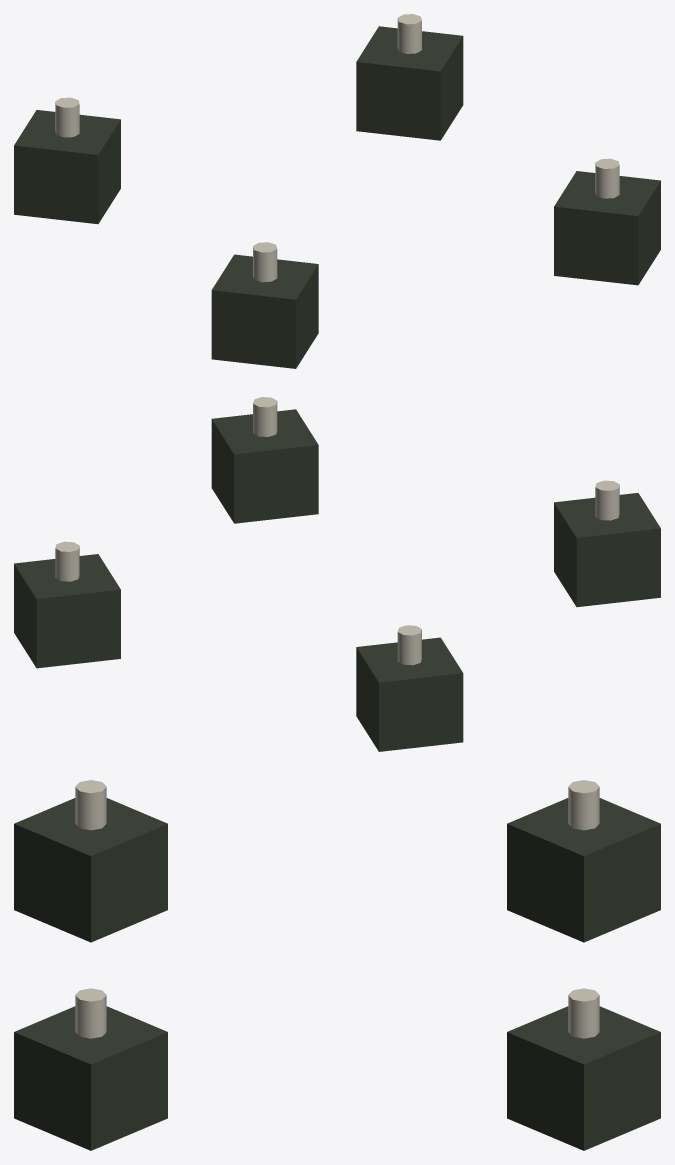
Rendered from s150_sensors.obj.
3 renders of one model, top to bottom at view 1: azimuth 30°, elevation 25°; view 2: azimuth 150°, elevation 25°; view 3: azimuth 270°, elevation 25°, orthographic. The views are drawn at different scales.
Visible parts, largest first — view 1: s150_sensors; view 2: s150_sensors; view 3: s150_sensors.
Part boxes in pixels (x1,y1,x2,y2): s150_sensors: [14, 14, 660, 368]; s150_sensors: [14, 397, 660, 751]; s150_sensors: [14, 780, 660, 1150].
Size of the model in its own units: 0.9009 by 0.1896 by 0.9009.
